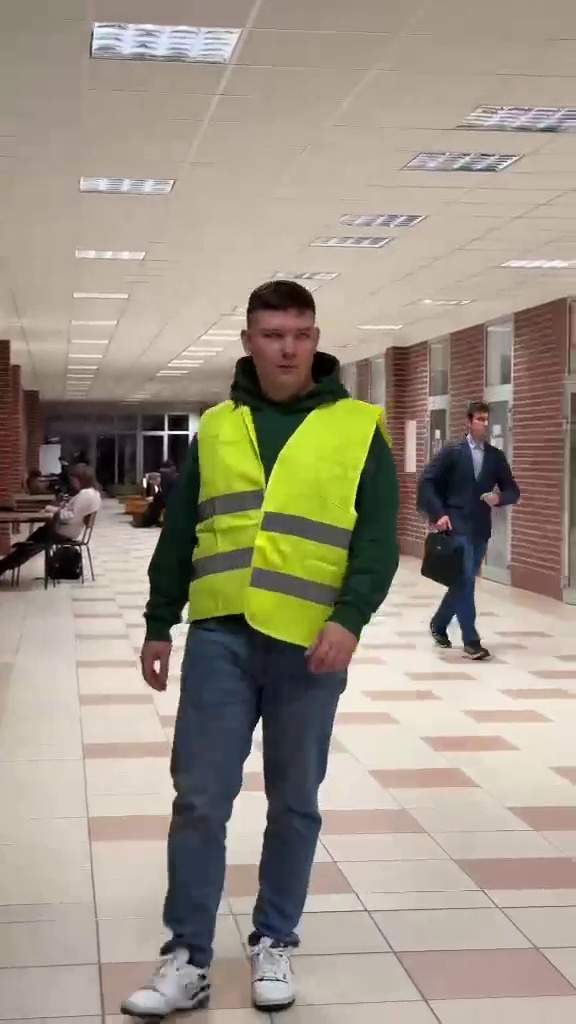no vest: (423, 396, 520, 658), (0, 461, 110, 565)
vest: (148, 267, 394, 1023)
